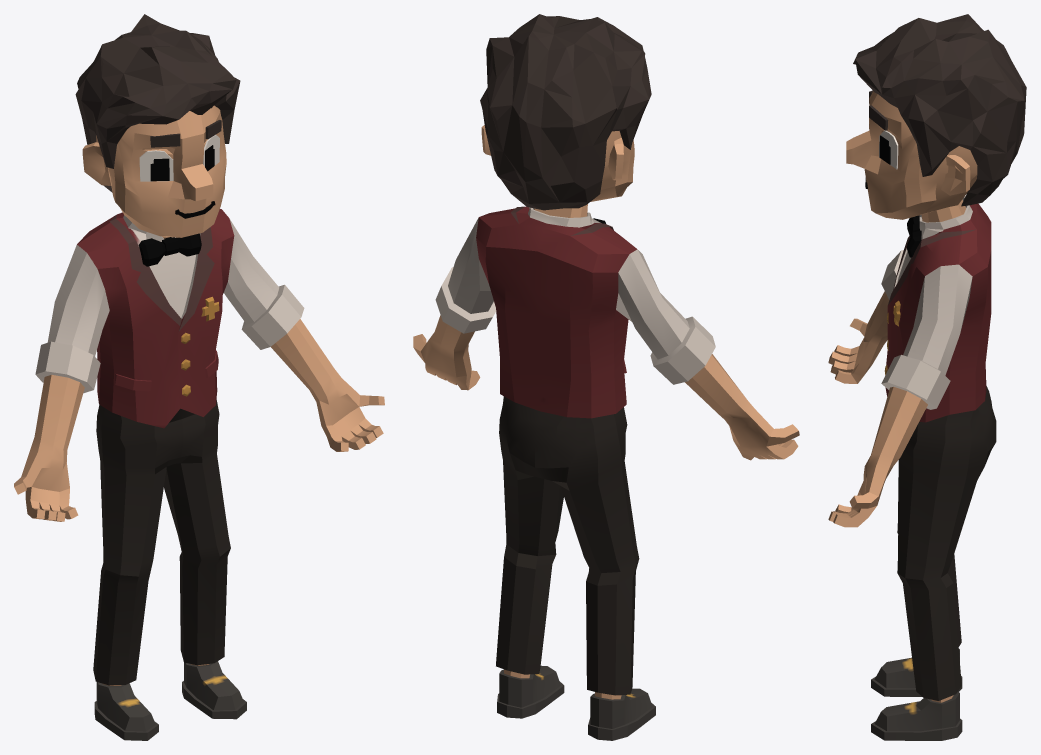
3 views of the same model, side by side, from view 1: azimuth 30°, elevation 25°; view 2: azimuth 150°, elevation 25°; view 3: azimuth 270°, elevation 25° (orthographic). The views are drawn at different scales.
Visible parts, largest first — view 1: Character; view 2: Character; view 3: Character.
Part boxes in pixels (left/top/right/bottom): Character: left=14, top=14, right=384, bottom=740; Character: left=413, top=14, right=799, bottom=740; Character: left=828, top=14, right=1026, bottom=740.
Size of the model in its own units: 136 by 235 by 61.73.
